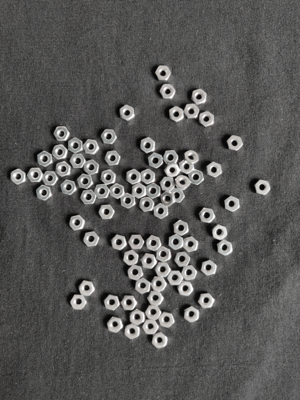nut: (107, 317, 124, 334), (152, 332, 168, 350), (121, 295, 138, 311), (198, 293, 215, 309), (135, 278, 151, 295), (212, 224, 228, 241), (69, 215, 86, 231), (153, 203, 169, 220), (188, 169, 204, 186), (227, 135, 244, 151), (37, 151, 53, 168), (52, 145, 69, 161), (101, 129, 118, 145), (140, 137, 156, 154), (199, 111, 215, 128), (185, 306, 200, 324), (154, 66, 172, 81), (125, 324, 141, 340), (159, 312, 175, 328), (71, 295, 87, 311), (79, 281, 95, 297), (104, 295, 120, 311), (178, 281, 194, 297), (128, 265, 144, 281), (201, 260, 217, 276), (156, 246, 172, 262), (183, 237, 199, 253), (146, 236, 162, 252), (111, 235, 127, 251), (139, 197, 155, 213), (207, 162, 223, 178), (36, 185, 52, 201), (61, 180, 77, 196), (77, 174, 93, 190), (55, 161, 71, 177), (142, 320, 159, 335), (130, 309, 145, 326), (167, 271, 184, 286), (155, 263, 172, 278), (174, 252, 191, 267), (169, 234, 184, 251), (128, 235, 145, 250), (199, 208, 216, 223), (225, 196, 240, 213), (83, 232, 100, 247), (146, 183, 161, 200), (121, 193, 136, 210), (27, 168, 44, 183), (164, 163, 181, 178), (120, 105, 135, 122), (148, 291, 164, 306), (151, 277, 167, 292), (181, 266, 197, 281), (218, 240, 233, 256), (141, 254, 157, 269), (124, 250, 139, 266), (174, 220, 189, 236), (255, 180, 271, 195), (99, 205, 115, 220), (161, 191, 176, 207), (175, 176, 191, 191), (11, 169, 26, 185), (81, 190, 97, 205), (101, 170, 117, 185), (70, 154, 86, 169), (84, 160, 99, 176), (68, 138, 83, 154), (83, 140, 99, 155), (105, 151, 121, 166), (148, 153, 163, 169), (184, 104, 200, 119), (192, 89, 207, 105), (160, 84, 176, 99), (145, 306, 162, 320), (42, 172, 59, 186), (110, 183, 124, 200), (170, 106, 184, 123), (180, 160, 195, 175), (184, 151, 199, 166), (132, 183, 146, 199), (160, 177, 176, 191), (94, 185, 110, 199), (142, 169, 156, 185), (54, 127, 70, 141), (163, 151, 179, 165), (171, 188, 185, 203), (127, 170, 141, 185)
